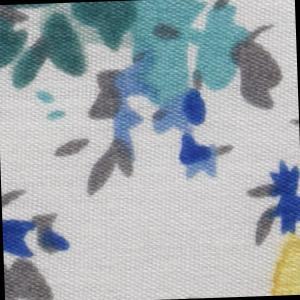Oil Stain: (267, 229, 300, 297)
